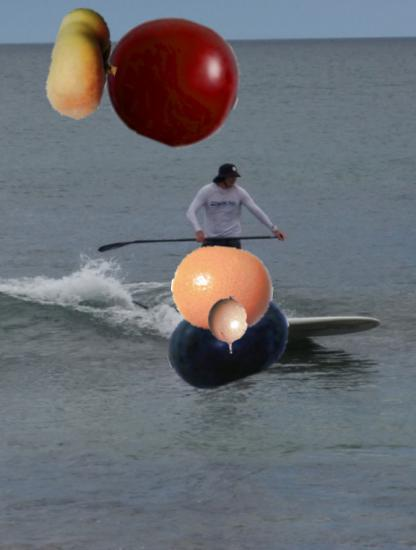Blueberry: (164, 275, 290, 401)
Cherry: (104, 12, 241, 149)
Granadilla: (200, 297, 257, 354)
Grapefruit: (171, 240, 273, 342)
Peach: (27, 8, 140, 121)
